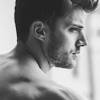no_mask: (13, 2, 93, 72)
